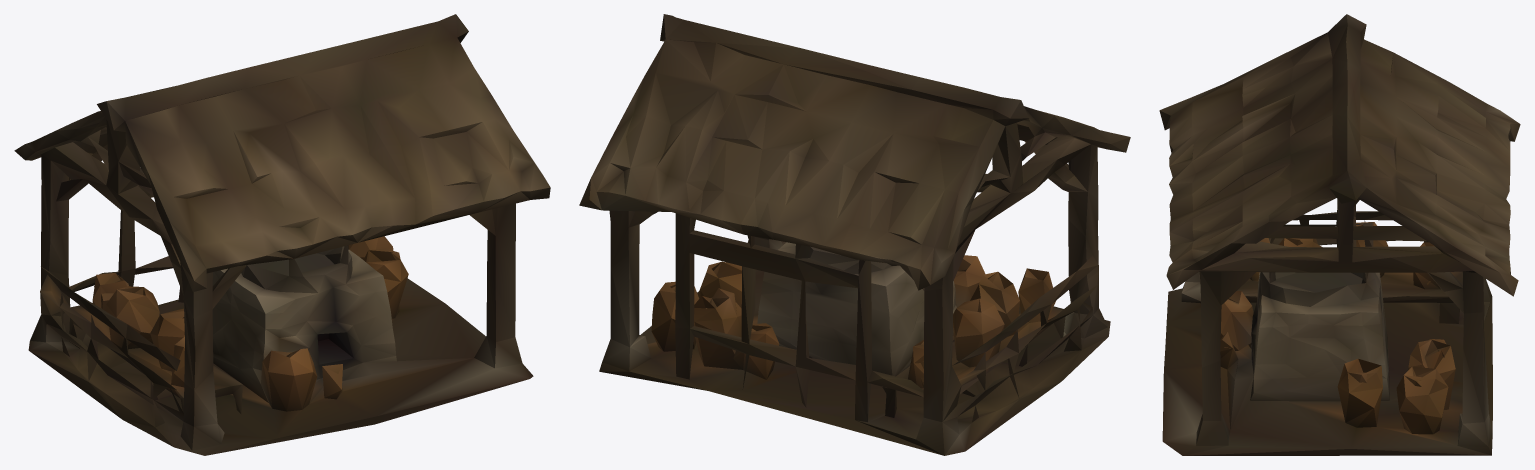
File: bq_pottery.vc2.glb
The picture shows the model from 3 angles, left to right: view 1: azimuth 30°, elevation 25°; view 2: azimuth 150°, elevation 25°; view 3: azimuth 270°, elevation 25°; orthographic projection. The views are drawn at different scales.
Parts seen in each view (by area): view 1: bq_pottery; view 2: bq_pottery; view 3: bq_pottery.
Boxes of the visible parts, bbox=[...] form: bq_pottery: bbox=[14, 14, 550, 455]; bq_pottery: bbox=[579, 14, 1130, 455]; bq_pottery: bbox=[1159, 14, 1520, 455].
Size of the model in its own units: 1.89 by 1.46 by 1.69.
